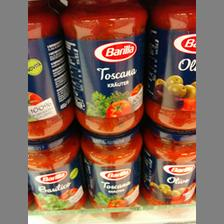Tomatensauce: (57, 0, 147, 134), (77, 132, 143, 220)
